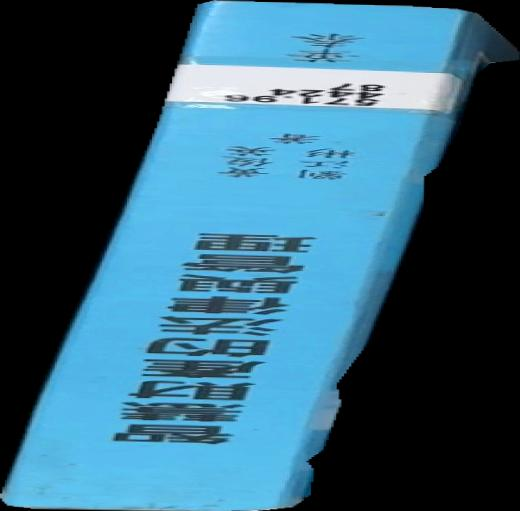reverse: (1, 1, 520, 511)
